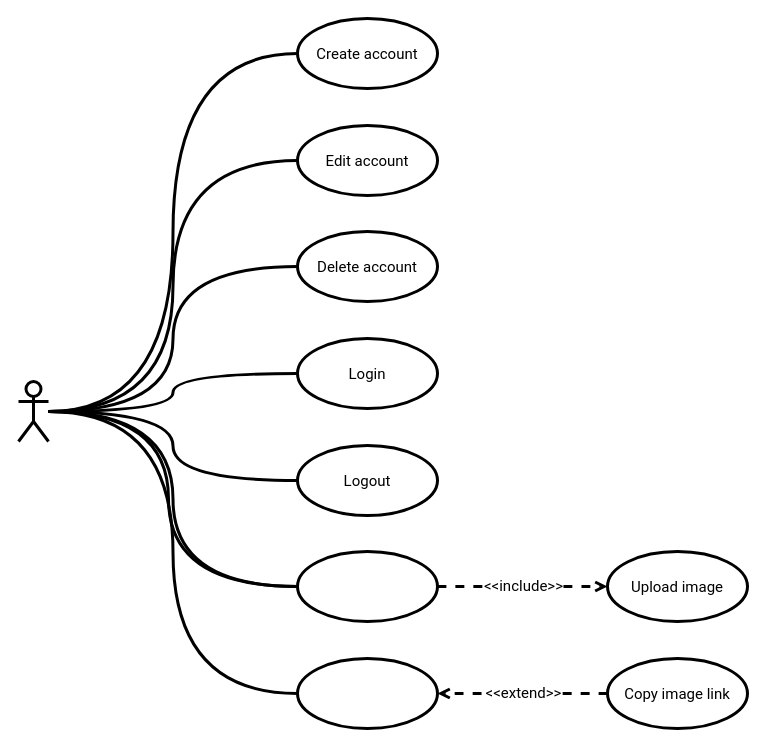
Image size: 766x747. Some labels were removed from this diagram. The centre of each missing label's shape, as x and y in pixels:
"Create post" belongs at pixel 367 586.
"See posts" belongs at pixel 367 693.
"User" belongs at pixel 33 411.
